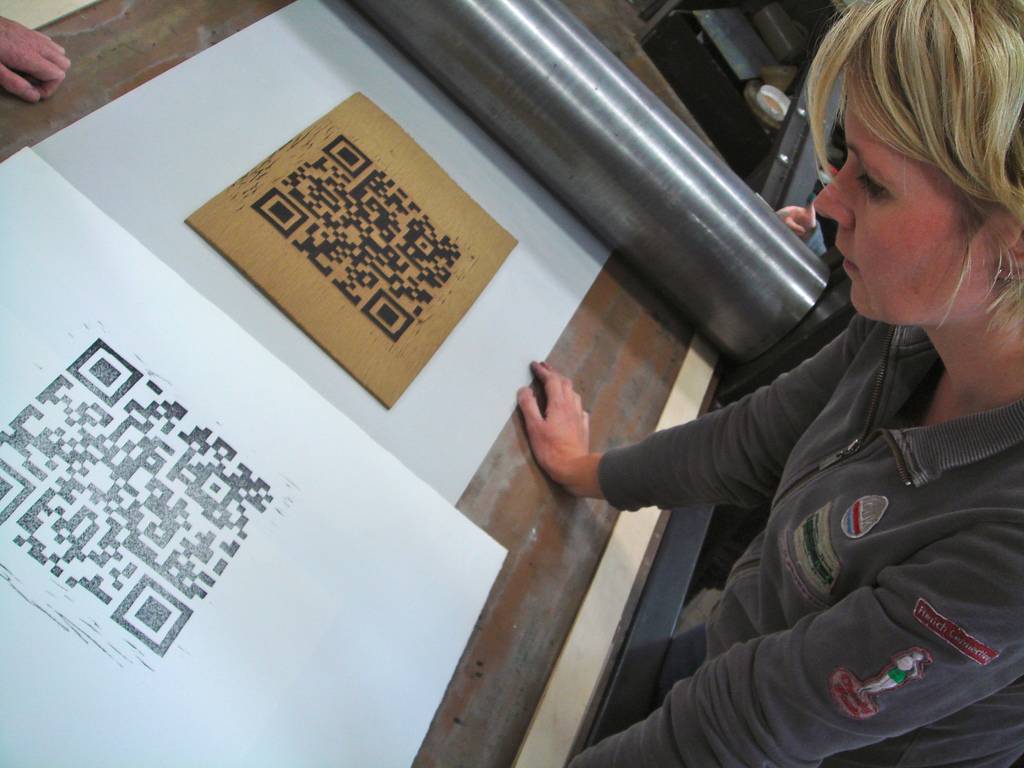QR-CODE: (0, 337, 281, 658), (249, 133, 468, 342)
